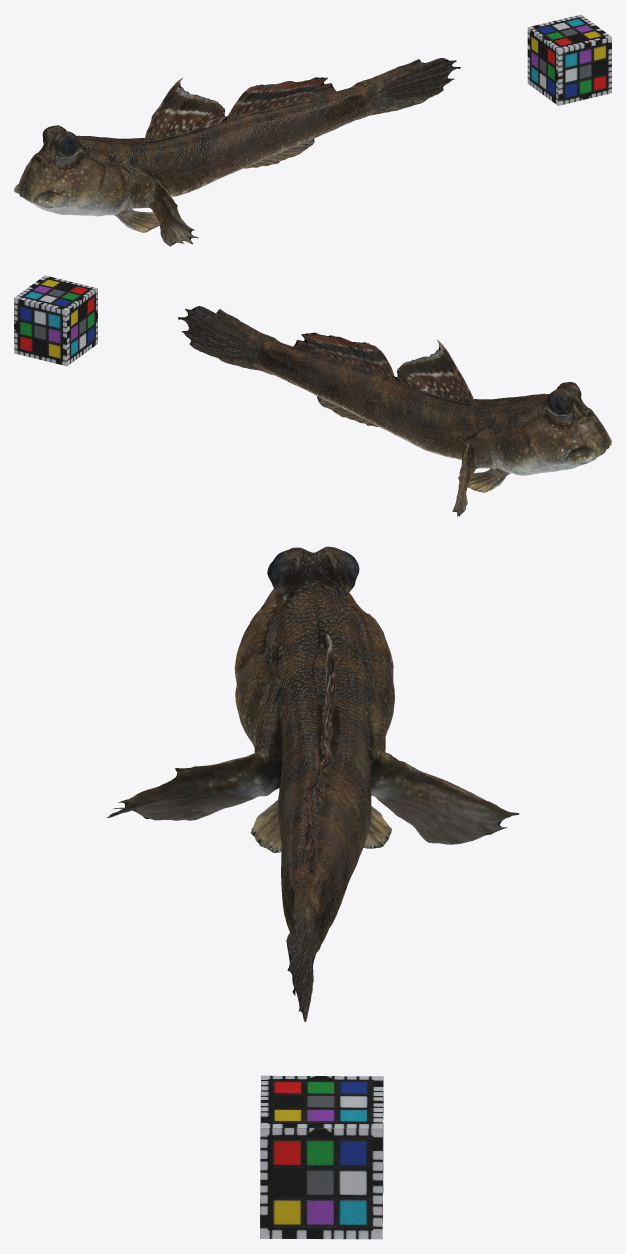
The model's file is mudksipper.glb.
3 renders of one model, top to bottom at view 1: azimuth 30°, elevation 25°; view 2: azimuth 150°, elevation 25°; view 3: azimuth 270°, elevation 25°, orthographic. The views are drawn at different scales.
Visible parts, largest first — view 1: ISG111-W01-1-1_1, Cube_0; view 2: ISG111-W01-1-1_1, Cube_0; view 3: ISG111-W01-1-1_1, Cube_0.
Part boxes in pixels (bbox=[...]): ISG111-W01-1-1_1: bbox=[14, 58, 460, 246]; Cube_0: bbox=[527, 14, 611, 105]; ISG111-W01-1-1_1: bbox=[178, 306, 611, 517]; Cube_0: bbox=[14, 275, 97, 366]; ISG111-W01-1-1_1: bbox=[107, 546, 519, 1021]; Cube_0: bbox=[260, 1075, 383, 1239].
Size of the model in its own units: 0.1048 by 0.0234 by 0.0327.
Materials: 2 (2 with a texture image).
